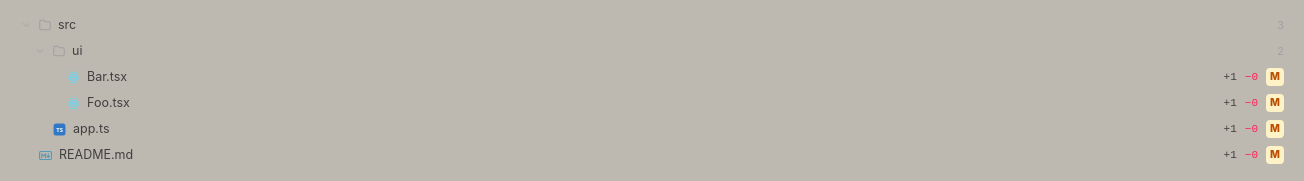
Scenario: ChangedFileList › collapses a directory's files when its header is clicked
This screenshot has width=1304, height=181.
Expected: the text "Foo.tsx" is shown, [87,95,130,110]
Click the text "ui" at (77, 51), box [72,42,82,60]
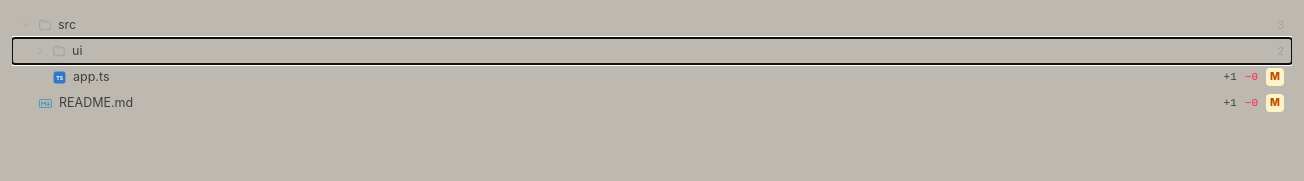
Expected: the button "Foo.tsx" is gone
